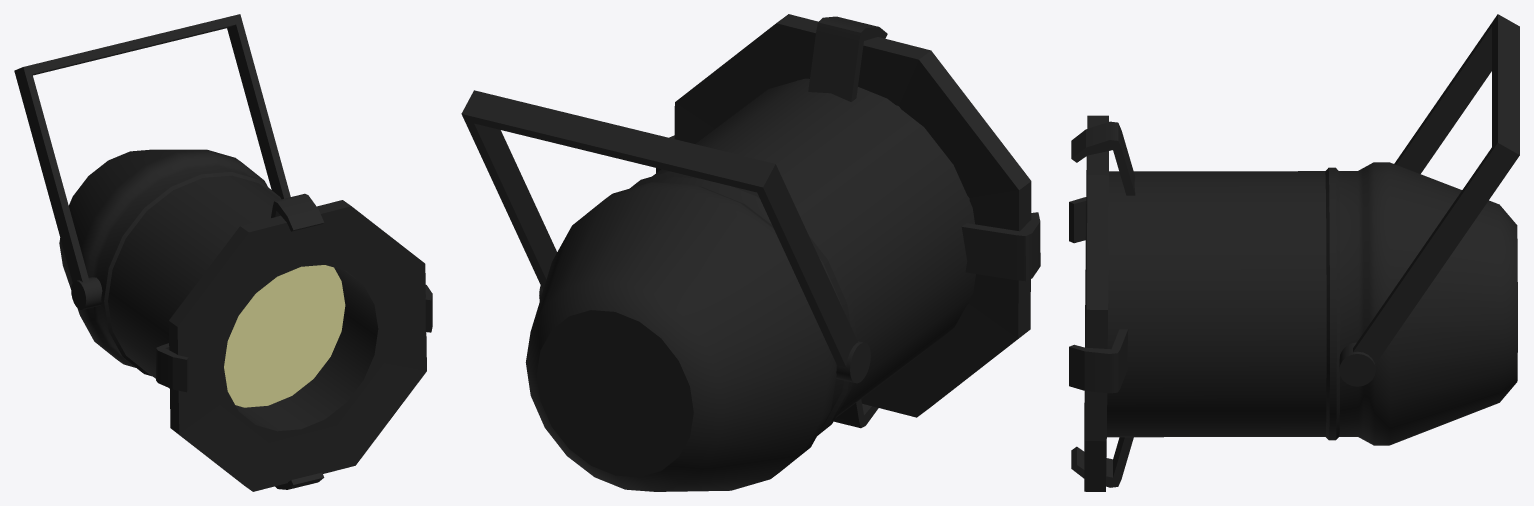
Rendered from StageLight 1.fbx.
The picture shows the model from 3 angles, left to right: view 1: azimuth 30°, elevation 25°; view 2: azimuth 150°, elevation 25°; view 3: azimuth 270°, elevation 25°; orthographic projection. The views are drawn at different scales.
Visible parts, largest first — view 1: StageLight; view 2: StageLight; view 3: StageLight.
Part boxes in pixels (x1,y1,x2,y2): StageLight: [14, 14, 432, 491]; StageLight: [461, 14, 1040, 491]; StageLight: [1069, 14, 1519, 491].
Size of the model in its own units: 282 by 329 by 337.
